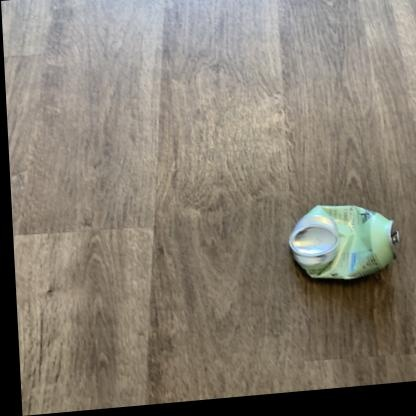trash: (289, 205, 398, 279)
